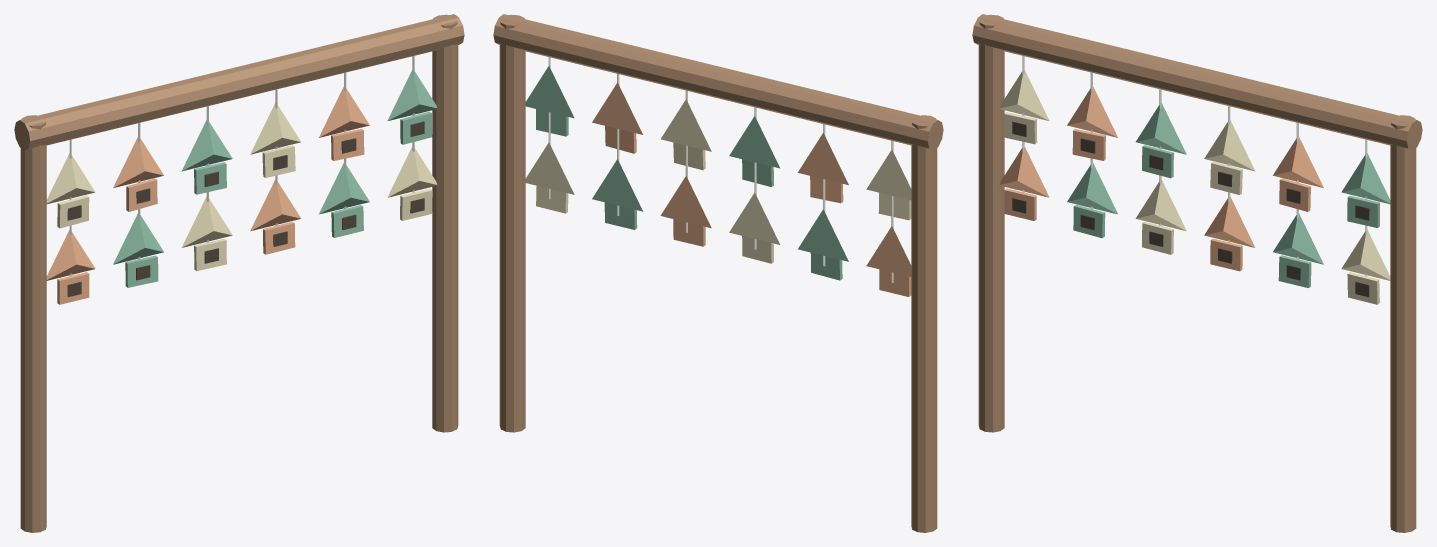
Rendered from ema_board.glb.
3 renders of one model, left to right at view 1: azimuth 30°, elevation 25°; view 2: azimuth 150°, elevation 25°; view 3: azimuth 330°, elevation 25°, orthographic.
Visible parts, largest first — view 1: ema_board; view 2: ema_board; view 3: ema_board.
Boxes of the visible parts, x1=… form: ema_board: x1=14, y1=14, x2=464, y2=532; ema_board: x1=493, y1=14, x2=943, y2=532; ema_board: x1=972, y1=14, x2=1422, y2=532.
Bounding box in the file's own units: 1.9 × 1.71 × 0.125.
